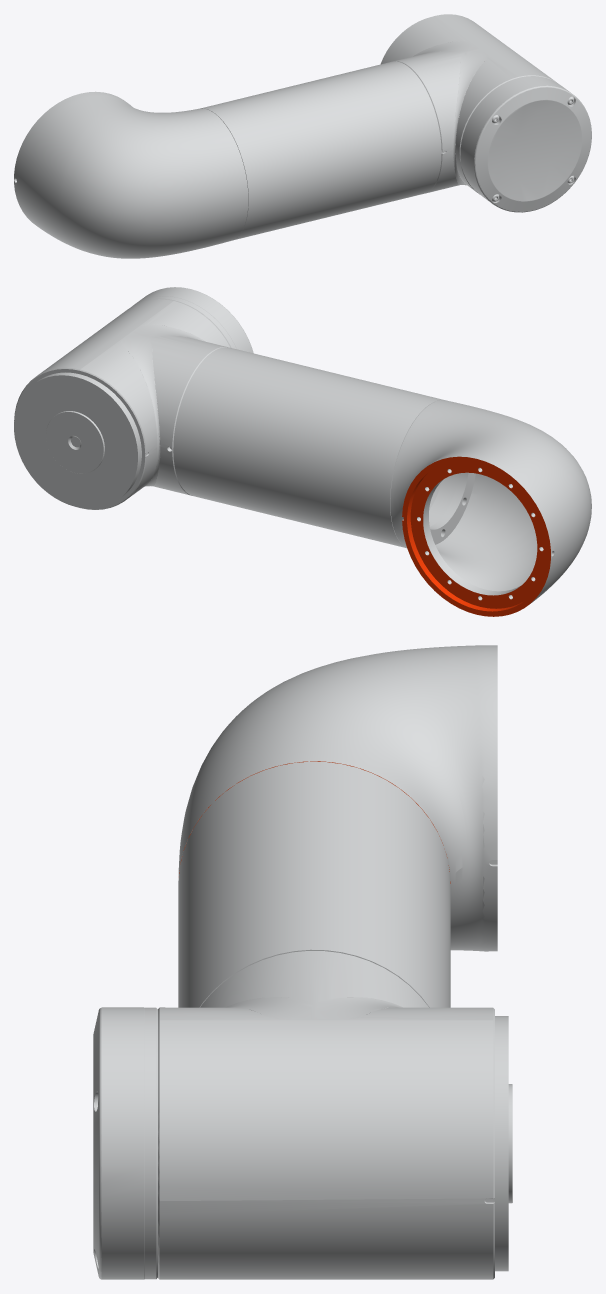
File: forearm_Link.DAE
The picture shows the model from 3 angles, top to bottom: view 1: azimuth 30°, elevation 25°; view 2: azimuth 150°, elevation 25°; view 3: azimuth 270°, elevation 25°; orthographic projection. The views are drawn at different scales.
Parts seen in each view (by area): view 1: stitch_result_stitchFBXASC032all_ncl1_2; view 2: stitch_result_stitchFBXASC032all_ncl1_2; view 3: stitch_result_stitchFBXASC032all_ncl1_2.
Part boxes in pixels (x1,y1,x2,y2): stitch_result_stitchFBXASC032all_ncl1_2: (14, 14, 591, 258); stitch_result_stitchFBXASC032all_ncl1_2: (14, 287, 591, 616); stitch_result_stitchFBXASC032all_ncl1_2: (93, 645, 512, 1279).
Bounding box in the file's own units: 0.325 × 0.1232 × 0.09.
